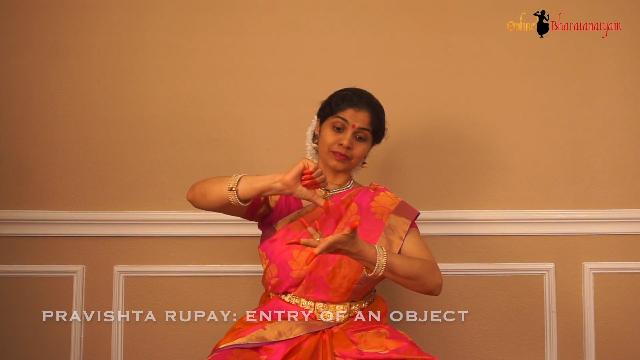shikhar: (266, 136, 354, 220)
